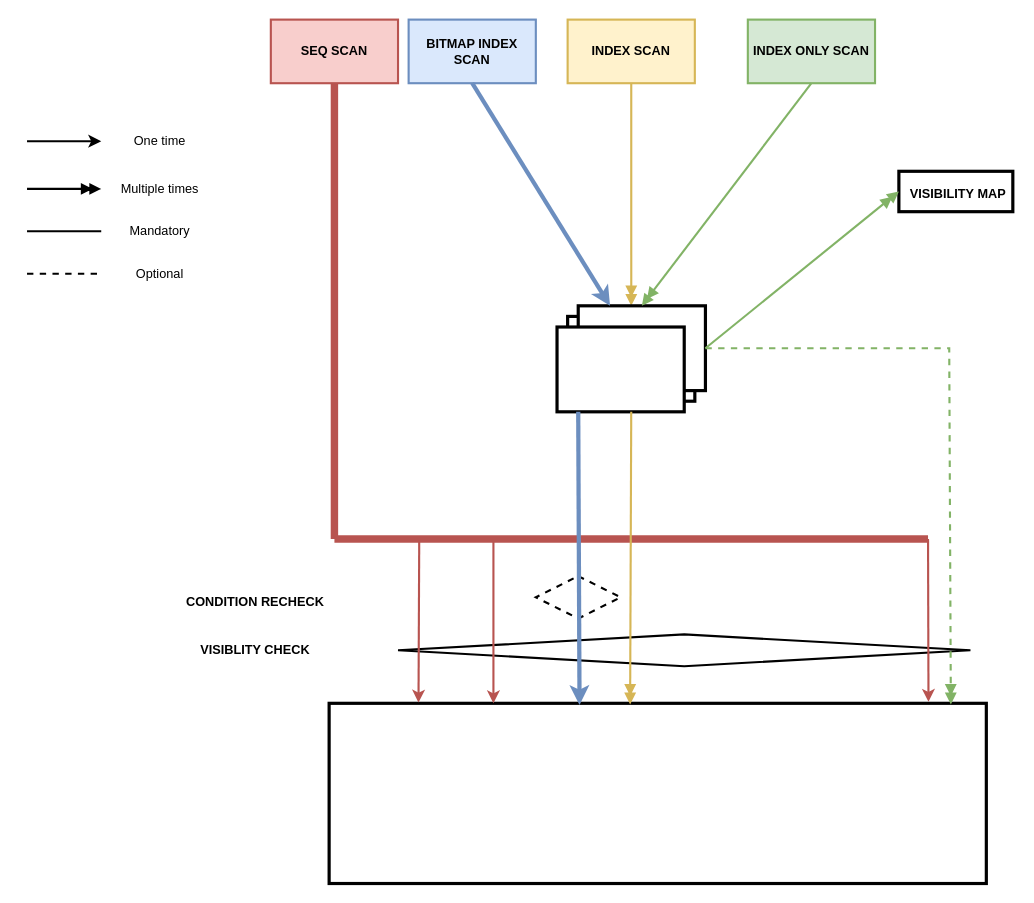
The diagram is 1034 pixels wide and 903 high, and some of its shapes have lost their labels. The box of each missing label's shape, as (x1, y1, x2, y2) in pixels:
INDEXES: (555, 325, 685, 413)
TABLE DATA: (327, 701, 987, 885)
